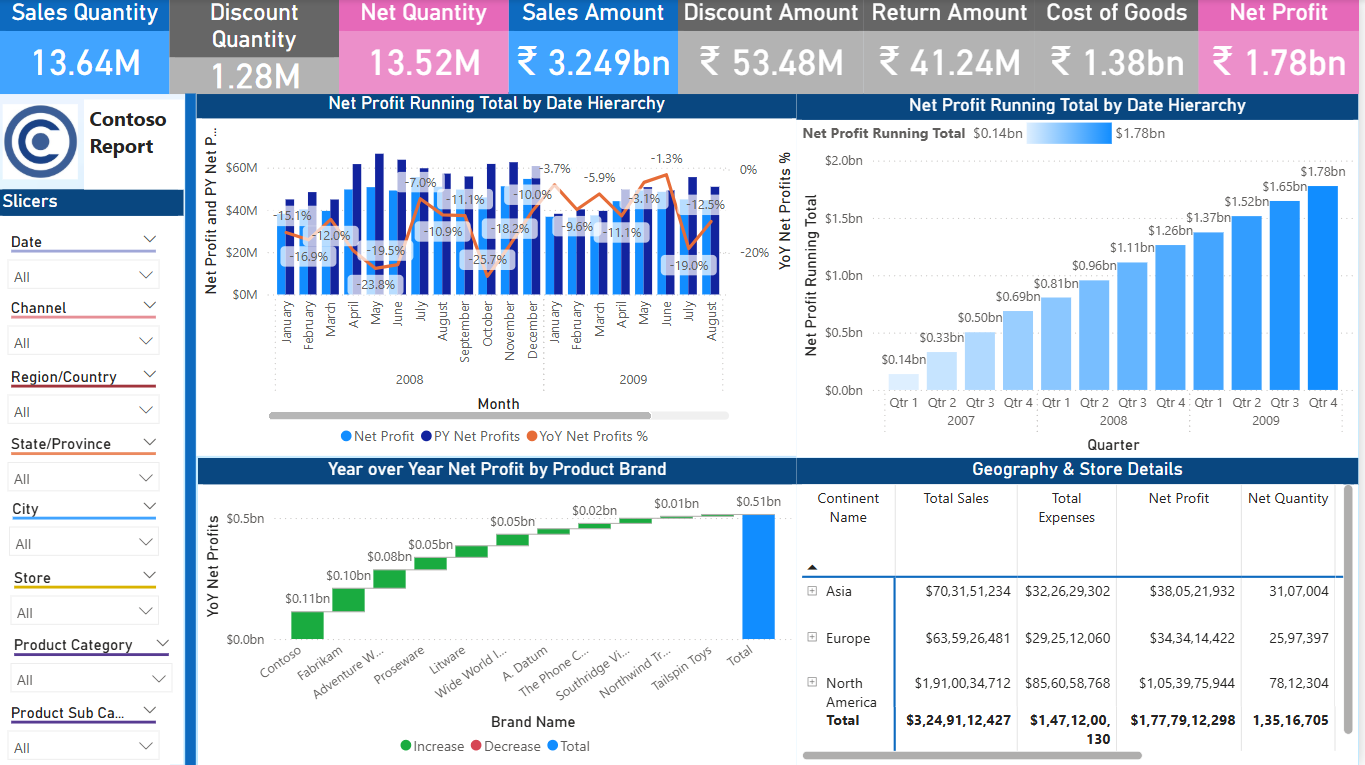

What the dashboard file says about the page in this screenshot:
{"tool":"powerbi","page":{"name":"Page 1","canvas":[1280,720],"ordinal":0},"visuals":[{"type":"textbox","title":"Slicers","box":[0,179.7,175.1,540.8],"z":0},{"type":"pivotTable","title":"Geography & Store Details","fields":{"Values":["DAX Measures.Total Sales","DAX Measures.Total Expenses","DAX Measures.Net Profit","DAX Measures.Net Quantity","DAX Measures.Order Count","DAX Measures.Average Order Count","DAX Measures.YoY Net Profits","DAX Measures.YoY Net Profits %"],"Rows":["Geography.Geography Hierarchy.Continent Name","Geography.Geography Hierarchy.Region Country Name","Geography.Geography Hierarchy.State Province Name","Geography.Geography Hierarchy.City Name","Store.Store Name"]},"box":[751.8,431.4,528.3,289.2],"z":1000},{"type":"lineClusteredColumnComboChart","title":"Net Profit Running Total by Date Hierarchy","fields":{"Y":["DAX Measures.Net Profit","DAX Measures.PY Net Profits"],"Y2":["DAX Measures.YoY Net Profits %"],"Category":["Calendar.Date.Variation.Date Hierarchy.Year","Calendar.Date.Variation.Date Hierarchy.Month"]},"box":[187.6,87.5,564.2,342.3],"z":2000},{"type":"actionButton","box":[0,0,100,40],"z":3000},{"type":"clusteredColumnChart","title":"Net Profit Running Total by Date Hierarchy","fields":{"Y":["DAX Measures.Net Profit Running Total"],"Category":["Calendar.Date.Variation.Date Hierarchy.Year","Calendar.Date.Variation.Date Hierarchy.Quarter","Calendar.Date.Variation.Date Hierarchy.Month","Calendar.Date.Variation.Date Hierarchy.Day"]},"box":[751.8,89.1,528.3,342.3],"z":4000},{"type":"waterfallChart","title":"Year over Year Net Profit by Product Brand","fields":{"Category":["Product Master.Brand Name"],"Y":["DAX Measures.YoY Net Profits"]},"box":[189.1,431.4,562.7,289.2],"z":5000},{"type":"image","box":[0,89.1,81.3,90.7],"z":6000},{"type":"textbox","box":[81.3,93.8,93.8,84.4],"z":7000},{"type":"card","title":"Sales Amount","fields":{"Values":["DAX Measures.Total Sales"]},"box":[480.4,0,159.1,89.1],"z":8000},{"type":"card","title":"Discount Amount","fields":{"Values":["DAX Measures.Discount Amount"]},"box":[639.4,0,175,89.1],"z":9000},{"type":"card","title":"Return Amount","fields":{"Values":["DAX Measures.Return Amount"]},"box":[814.4,0,160.7,89.1],"z":10000},{"type":"card","title":"Cost of Goods","fields":{"Values":["DAX Measures.Total Cost"]},"box":[975,0,154.3,89.1],"z":11000},{"type":"card","title":"Net Profit","fields":{"Values":["DAX Measures.Net Profit"]},"box":[1129.3,0,151.1,89.1],"z":12000},{"type":"card","title":"Sales Quantity","fields":{"Values":["DAX Measures.Sales Quantity"]},"box":[3.2,0,159.1,89.1],"z":13000},{"type":"card","title":"Discount Quantity","fields":{"Values":["DAX Measures.Discount Quantity"]},"box":[162.2,0,159.1,89.1],"z":14000},{"type":"card","title":"Net Quantity","fields":{"Values":["DAX Measures.Net Quantity"]},"box":[321.3,0,159.1,89.1],"z":15000},{"type":"slicer","fields":{"Values":["Product Master.Product Subcategory Name"]},"box":[0,656.5,162.6,64.1],"z":16000},{"type":"slicer","fields":{"Values":["Product Master.Product Category Name"]},"box":[3.1,593.9,171.9,64.1],"z":17000},{"type":"slicer","fields":{"Values":["Channel.Channel Name"]},"box":[0,276.6,162.6,64.1],"z":18000},{"type":"slicer","fields":{"Values":["Geography.Region Country Name"]},"box":[0,340.7,162.6,64.1],"z":19000},{"type":"slicer","fields":{"Values":["Geography.State Province Name"]},"box":[0,404.8,162.6,61],"z":20000},{"type":"slicer","fields":{"Values":["Geography.City Name"]},"box":[1.6,465.8,161,64.1],"z":21000},{"type":"slicer","fields":{"Values":["Store.Store Name"]},"box":[3.1,529.9,159.4,64.1],"z":22000},{"type":"slicer","fields":{"Values":["Date.Date.Variation.Date Hierarchy.Year"]},"box":[0,214.1,162.6,62.5],"z":23000},{"type":"shape","box":[175.1,89.1,14.1,631.4],"z":24000}]}

Visuals, with their boxes in screenshot pixels (x1, y1, x2, y2), scaled from the page's 1280x720 canvas onto the 1365x765 screenshot:
"Slicers" textbox: 0,191,187,764
"Geography & Store Details" pivotTable: 802,458,1364,764
"Net Profit Running Total by Date Hierarchy" lineClusteredColumnComboChart: 200,93,802,457
actionButton: 0,0,107,42
"Net Profit Running Total by Date Hierarchy" clusteredColumnChart: 802,95,1364,458
"Year over Year Net Profit by Product Brand" waterfallChart: 202,458,802,764
image: 0,95,87,191
textbox: 87,100,187,189
"Sales Amount" card: 512,0,682,95
"Discount Amount" card: 682,0,868,95
"Return Amount" card: 868,0,1040,95
"Cost of Goods" card: 1040,0,1204,95
"Net Profit" card: 1204,0,1364,95
"Sales Quantity" card: 3,0,173,95
"Discount Quantity" card: 173,0,343,95
"Net Quantity" card: 343,0,512,95
slicer - Product Master.Product Subcategory Name: 0,698,173,764
slicer - Product Master.Product Category Name: 3,631,187,699
slicer - Channel.Channel Name: 0,294,173,362
slicer - Geography.Region Country Name: 0,362,173,430
slicer - Geography.State Province Name: 0,430,173,495
slicer - Geography.City Name: 2,495,173,563
slicer - Store.Store Name: 3,563,173,631
slicer - Date.Date.Variation.Date Hierarchy.Year: 0,227,173,294
shape: 187,95,202,764
